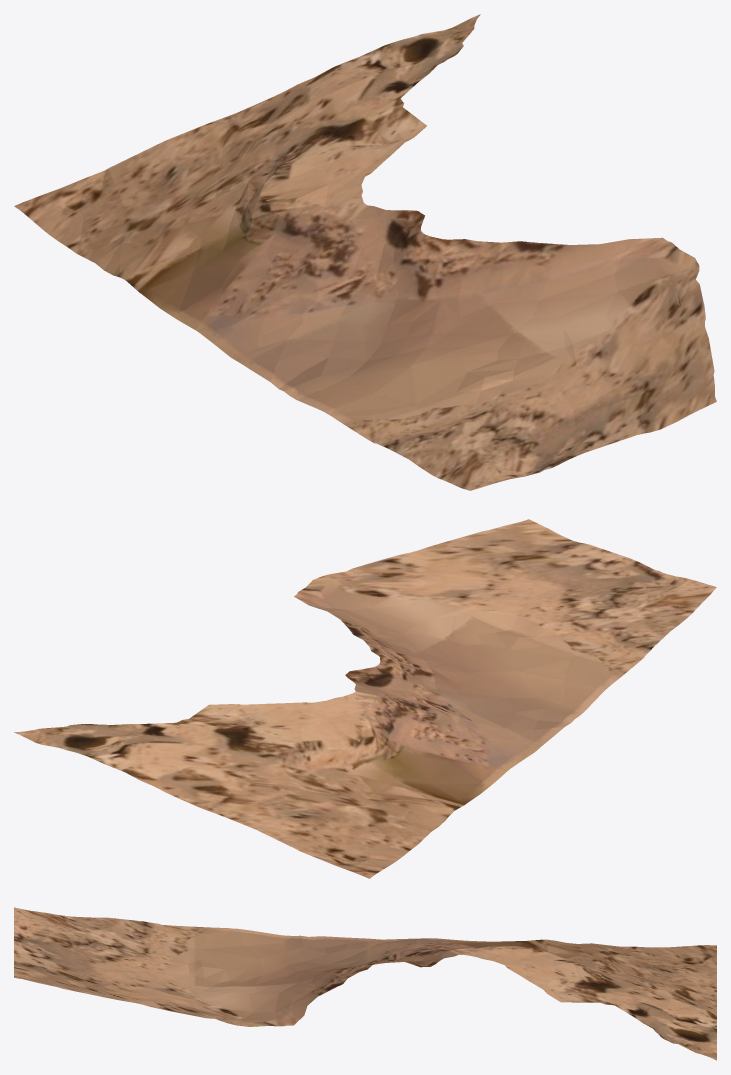
3 renders of one model, top to bottom at view 1: azimuth 30°, elevation 25°; view 2: azimuth 150°, elevation 25°; view 3: azimuth 270°, elevation 25°, orthographic. The views are drawn at different scales.
Size of the model in its own units: 2.47 by 0.4098 by 4.18.
1 material, 1 textured.
